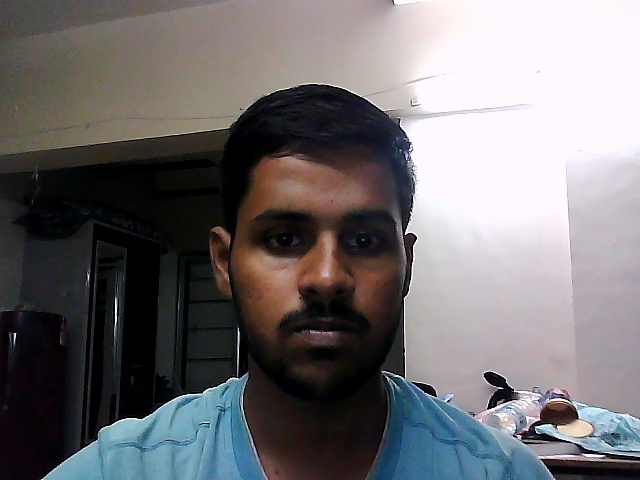awake: (178, 74, 464, 401)
